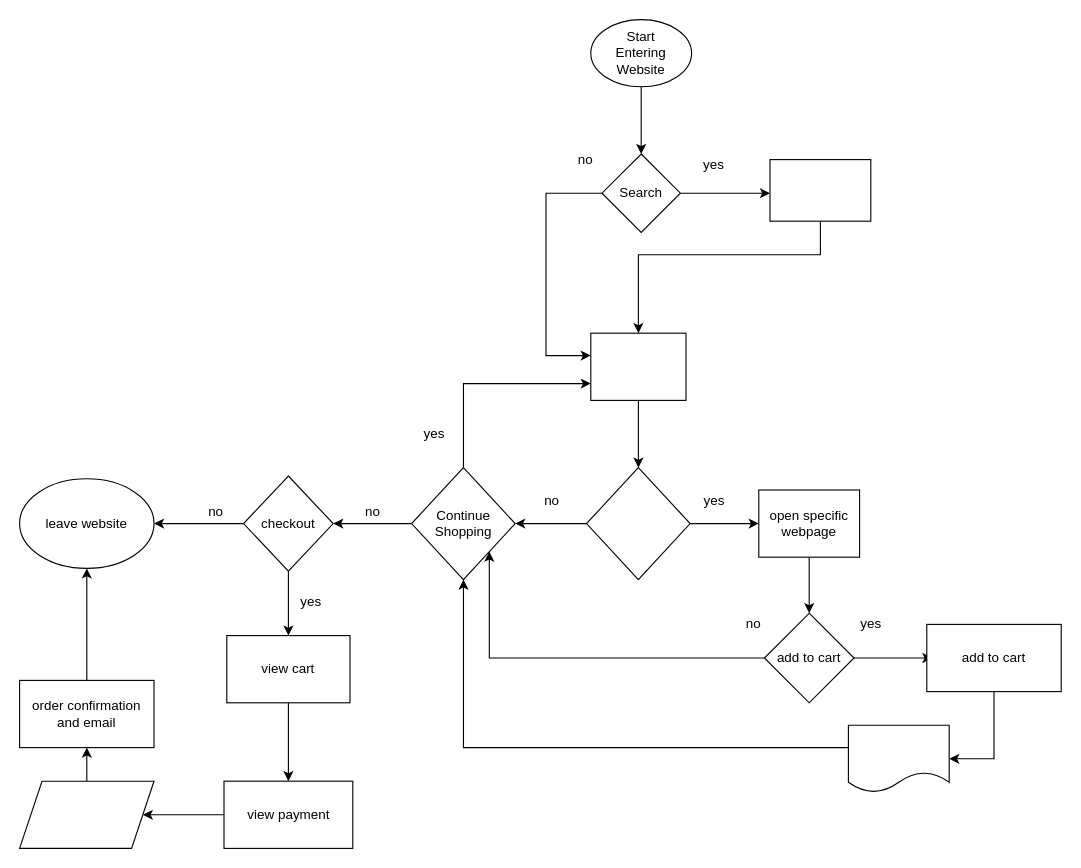
Image size: 1081x868. Some labels were removed from this diagram. The shapes that lost their labels are listed below. From the top down, each one's box as (x1, y1, x2, y2) in pixels, then its label:
(769, 158, 871, 221): Search for Product
(590, 332, 686, 400): View Product
(585, 466, 690, 580): VIew specific product?
(847, 724, 949, 792): add to cart confirmation
(18, 780, 154, 848): enter payment information
